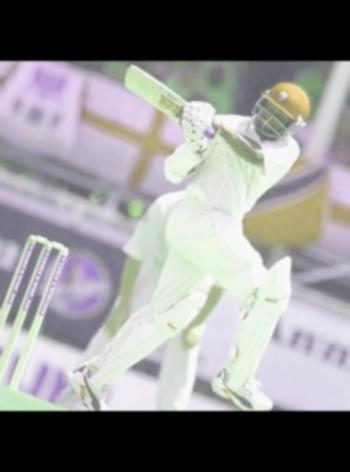batsman: (52, 74, 347, 411)
